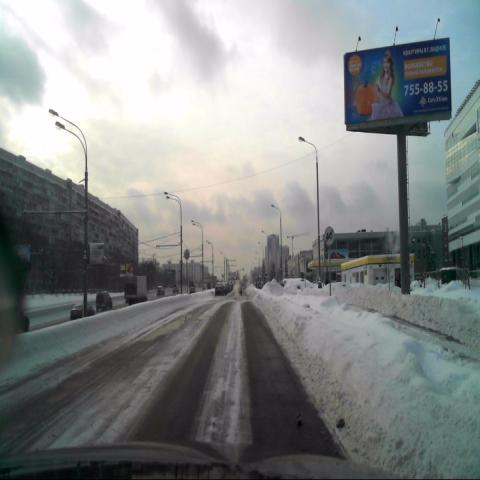3_25: (323, 226, 334, 247)
